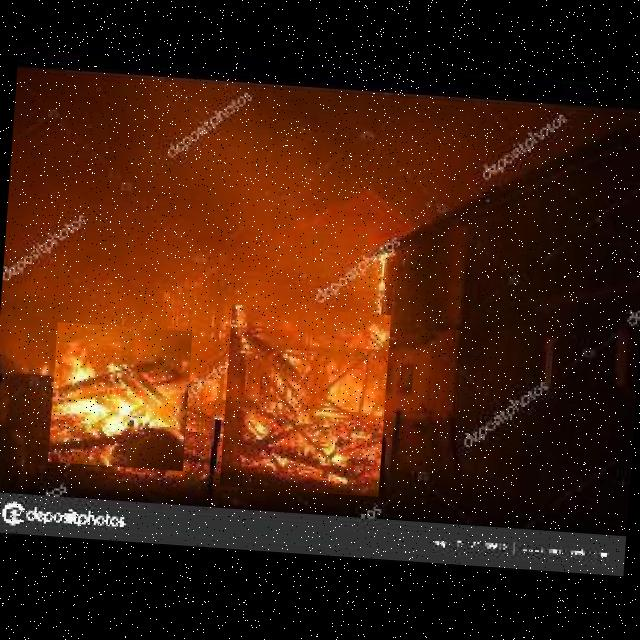fire: (220, 304, 390, 496), (47, 322, 192, 471)
